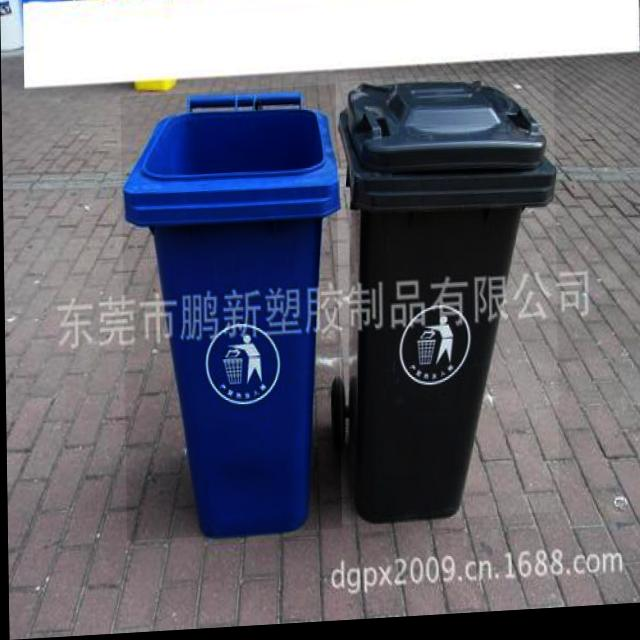garbage_bin: (335, 77, 558, 529), (120, 89, 342, 542)
